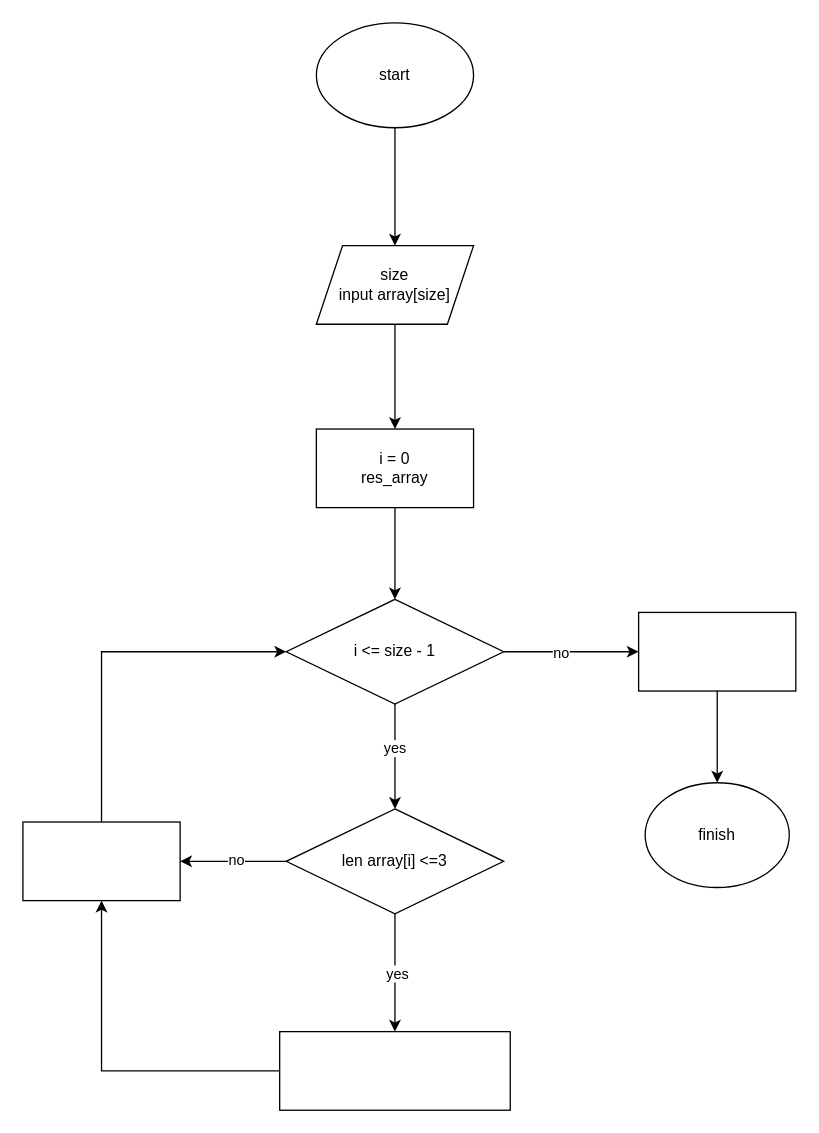
This 819x1133 diagram has some shape labels left out. Here are the shapes that lost their labels. From the top down, the box of each, then its label:
(637, 611, 796, 691): print res_array
(22, 821, 180, 901): i = i + 1
(278, 1030, 510, 1110): res_array.append array[i]
